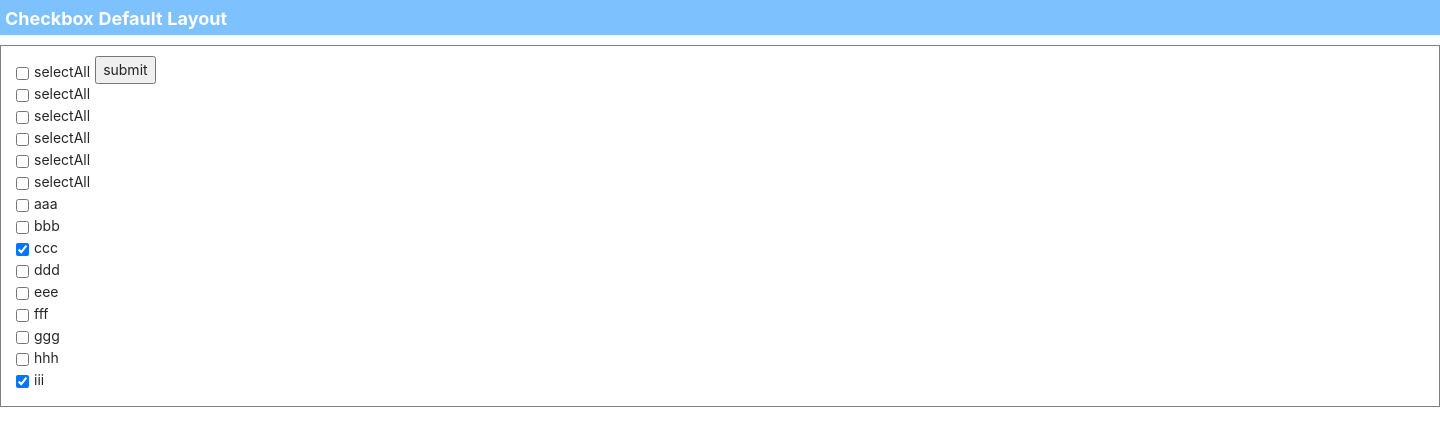
interactive › should be picked if click the checkbox
Click the checkbox labelled "hhh": [22, 359] box [16,353,29,366]
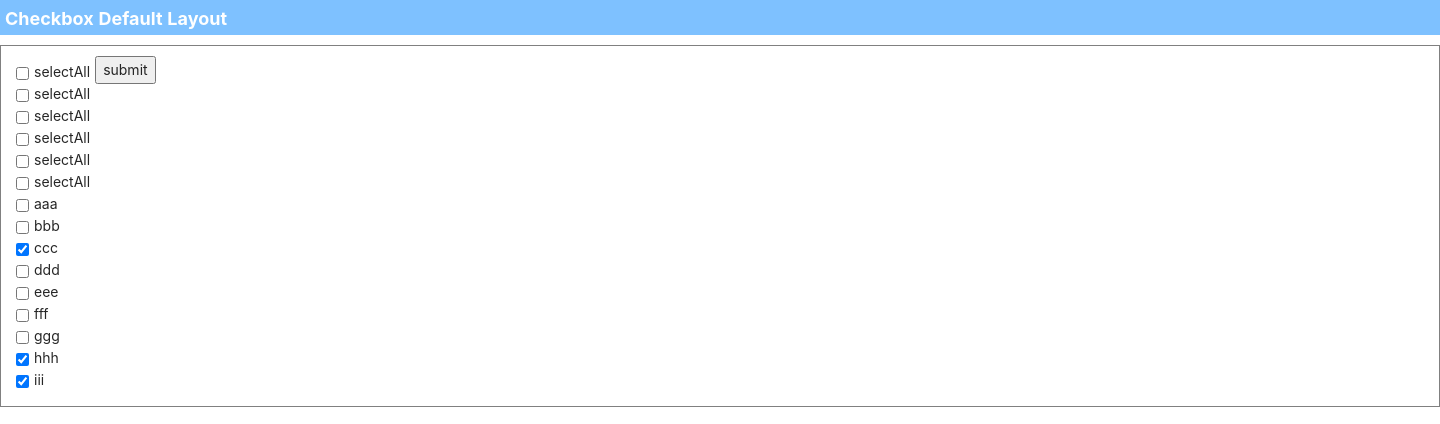
Expected: the checkbox labelled "hhh" is checked, [16,353,29,366]
